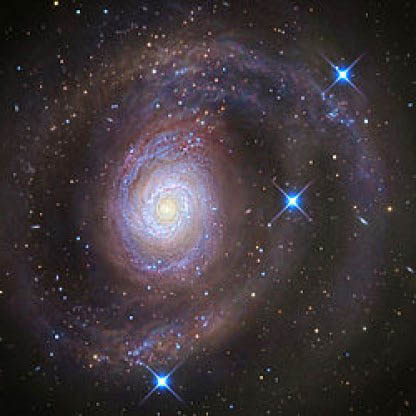Messier 94: (12, 22, 388, 399)
